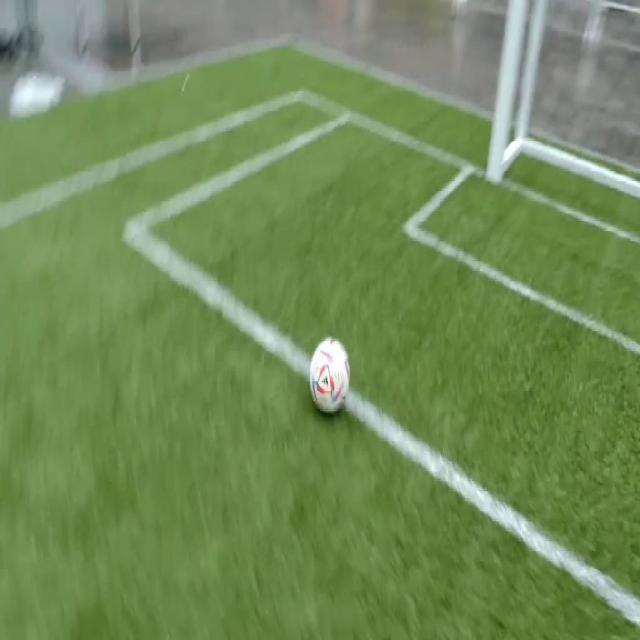ball: (310, 337, 350, 413)
goalpost: (481, 126, 513, 189)
